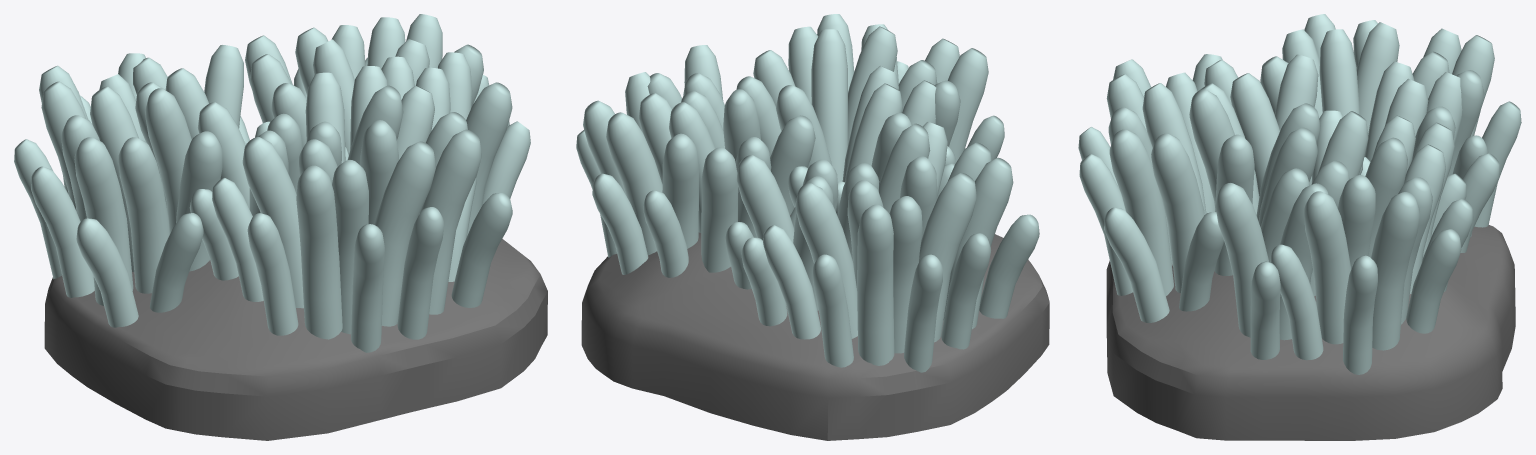
File: SM_Anemone_Small.fbx
The picture shows the model from 3 angles, left to right: view 1: azimuth 30°, elevation 25°; view 2: azimuth 150°, elevation 25°; view 3: azimuth 270°, elevation 25°; orthographic projection. The views are drawn at different scales.
Visible parts, largest first — view 1: SM_Anemone_Small; view 2: SM_Anemone_Small; view 3: SM_Anemone_Small.
Part boxes in pixels (x1=…): SM_Anemone_Small: x1=14, y1=14, x2=547, y2=440; SM_Anemone_Small: x1=576, y1=14, x2=1049, y2=440; SM_Anemone_Small: x1=1078, y1=14, x2=1521, y2=440.
Size of the model in its own units: 85.18 by 51.74 by 75.36.
